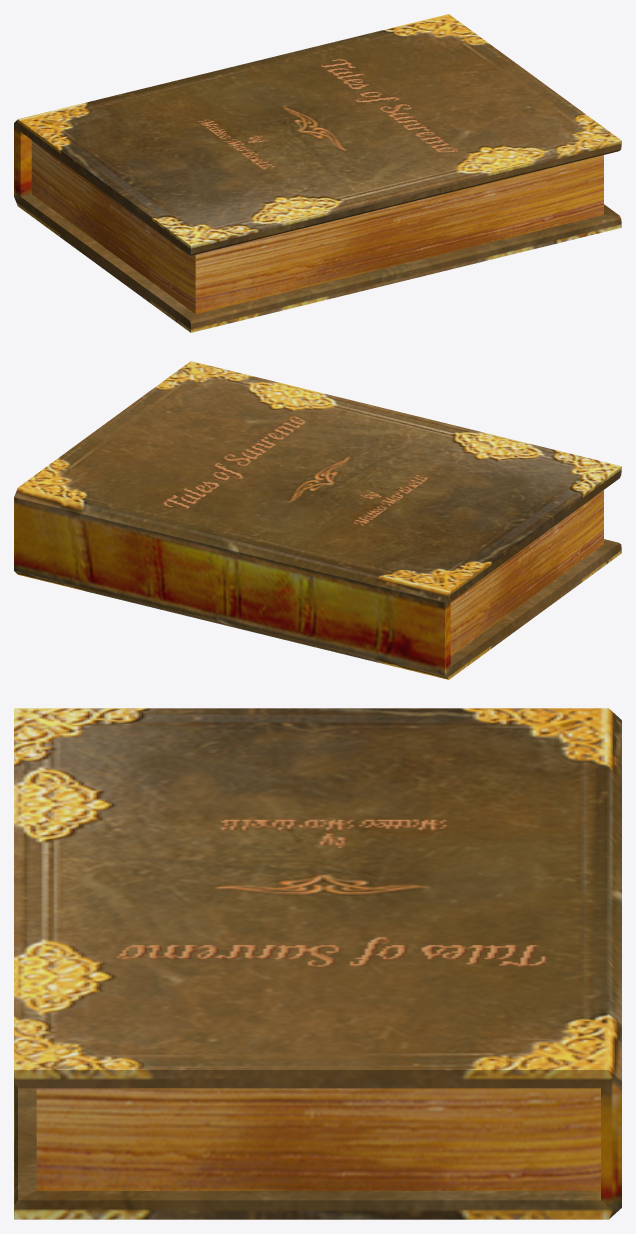
The model's file is book closed.fbx.
The picture shows the model from 3 angles, top to bottom: view 1: azimuth 30°, elevation 25°; view 2: azimuth 150°, elevation 25°; view 3: azimuth 270°, elevation 25°; orthographic projection. The views are drawn at different scales.
Parts seen in each view (by area): view 1: Mesh; view 2: Mesh; view 3: Mesh.
Boxes of the visible parts, x1,y1,x2,y2 form: Mesh: (14,14,621,332); Mesh: (14,361,621,679); Mesh: (14,708,621,1219).
Bounding box in the file's own units: 39.4 × 28 × 7.6.
